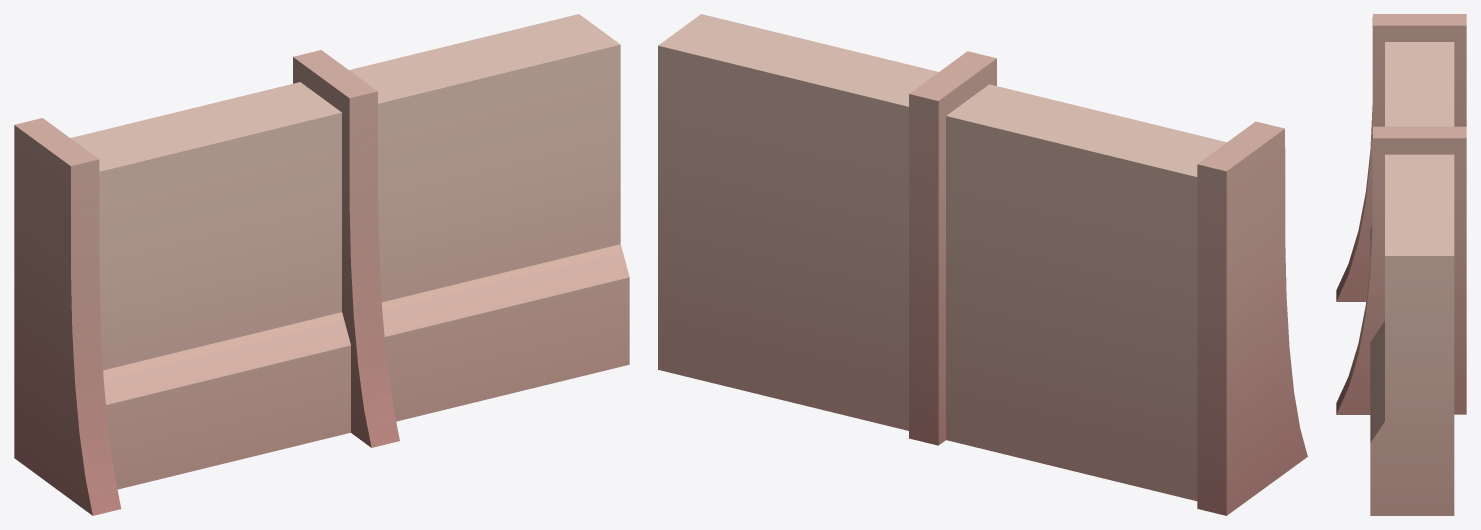
Rendered from Wall.fbx.
The picture shows the model from 3 angles, left to right: view 1: azimuth 30°, elevation 25°; view 2: azimuth 150°, elevation 25°; view 3: azimuth 270°, elevation 25°; orthographic projection. The views are drawn at different scales.
Parts seen in each view (by area): view 1: Cube.006; view 2: Cube.006; view 3: Cube.006.
Boxes of the visible parts, x1=… form: Cube.006: x1=14, y1=14, x2=629, y2=515; Cube.006: x1=658, y1=14, x2=1307, y2=515; Cube.006: x1=1336, y1=14, x2=1466, y2=515.
Size of the model in its own units: 826 by 472 by 202.
